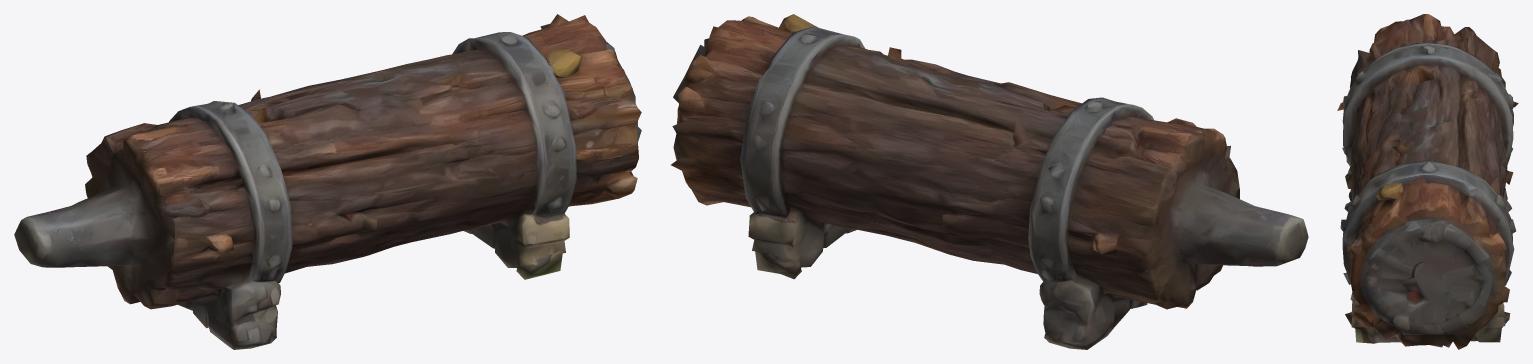
The model's file is tripo_timber_ram.glb.
3 renders of one model, left to right at view 1: azimuth 30°, elevation 25°; view 2: azimuth 150°, elevation 25°; view 3: azimuth 270°, elevation 25°, orthographic. The views are drawn at different scales.
Visible parts, largest first — view 1: tripo_node_5049ca3d-df73-4cff-9cfa-1a9a46a9eee0; view 2: tripo_node_5049ca3d-df73-4cff-9cfa-1a9a46a9eee0; view 3: tripo_node_5049ca3d-df73-4cff-9cfa-1a9a46a9eee0.
Part boxes in pixels (left/top/right/bottom): tripo_node_5049ca3d-df73-4cff-9cfa-1a9a46a9eee0: left=14, top=14, right=641, bottom=349; tripo_node_5049ca3d-df73-4cff-9cfa-1a9a46a9eee0: left=671, top=14, right=1308, bottom=349; tripo_node_5049ca3d-df73-4cff-9cfa-1a9a46a9eee0: left=1337, top=14, right=1518, bottom=349.
Size of the model in its own units: 1 by 0.3375 by 0.3159.
Materials: 1 (1 with a texture image).
